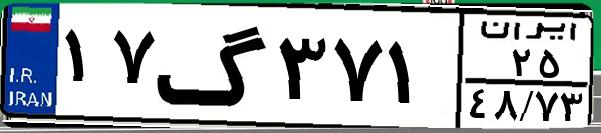1: (385, 28, 445, 110), (57, 26, 110, 100)
2: (508, 27, 537, 80)
3: (270, 28, 330, 110), (560, 70, 590, 125)
4: (470, 70, 495, 125)
5: (537, 27, 568, 80)
7: (330, 28, 385, 110), (110, 28, 156, 98), (535, 70, 560, 125)
8: (495, 70, 520, 125)
گ: (156, 12, 270, 120)
